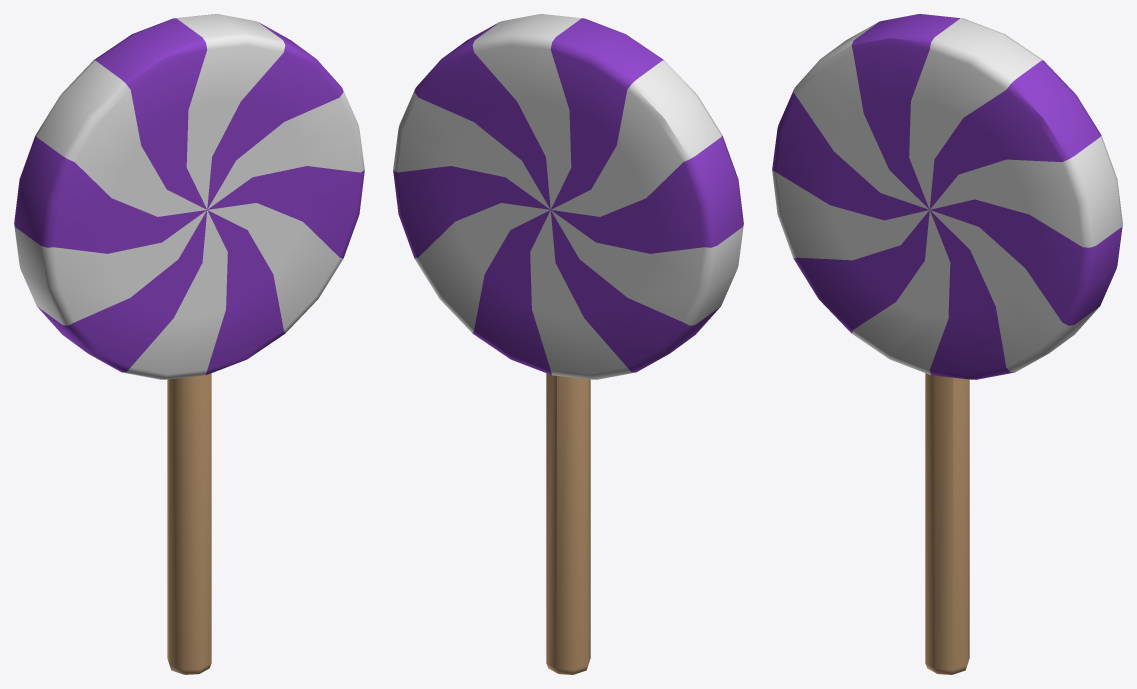
The model's file is lollipop.gltf.
3 renders of one model, left to right at view 1: azimuth 30°, elevation 25°; view 2: azimuth 150°, elevation 25°; view 3: azimuth 330°, elevation 25°, orthographic.
Visible parts, largest first — view 1: lollipopA; view 2: lollipopA; view 3: lollipopA.
Boxes of the visible parts, <box> form: lollipopA: <box>14,14,364,674</box>; lollipopA: <box>393,14,743,674</box>; lollipopA: <box>772,14,1122,674</box>.
Size of the model in its own units: 0.6861 by 1.3 by 0.1308.
